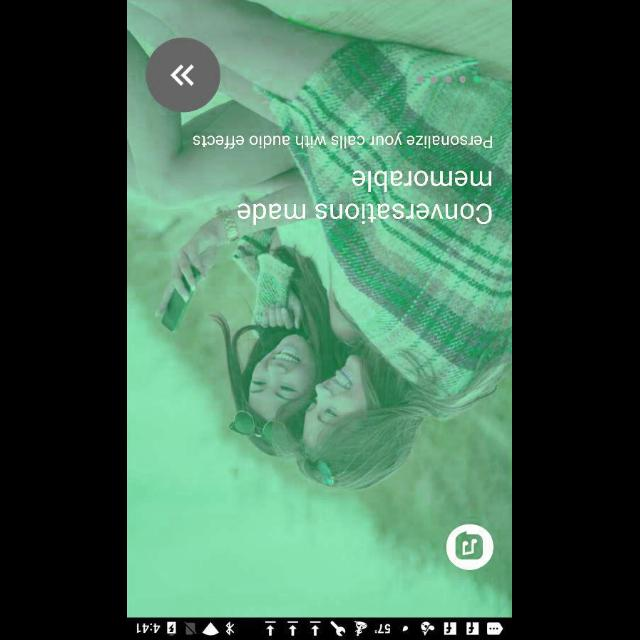backgroundimage: (128, 0, 512, 616)
button: (146, 38, 222, 112)
image: (446, 524, 494, 570)
text: (238, 170, 492, 224), (193, 132, 493, 148)
uppertaskbar: (128, 617, 512, 639)
